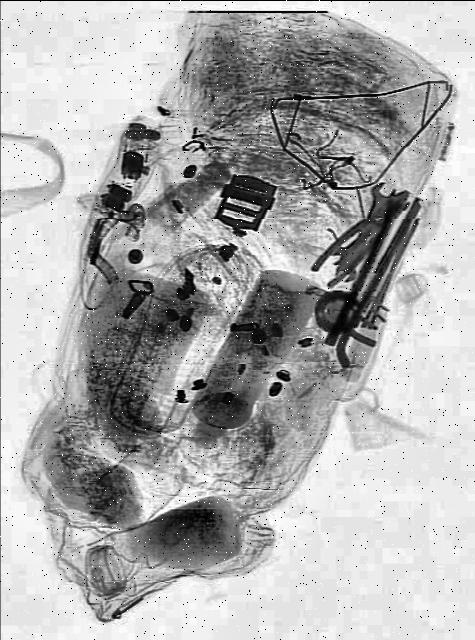Wrench: (330, 176, 402, 286)
